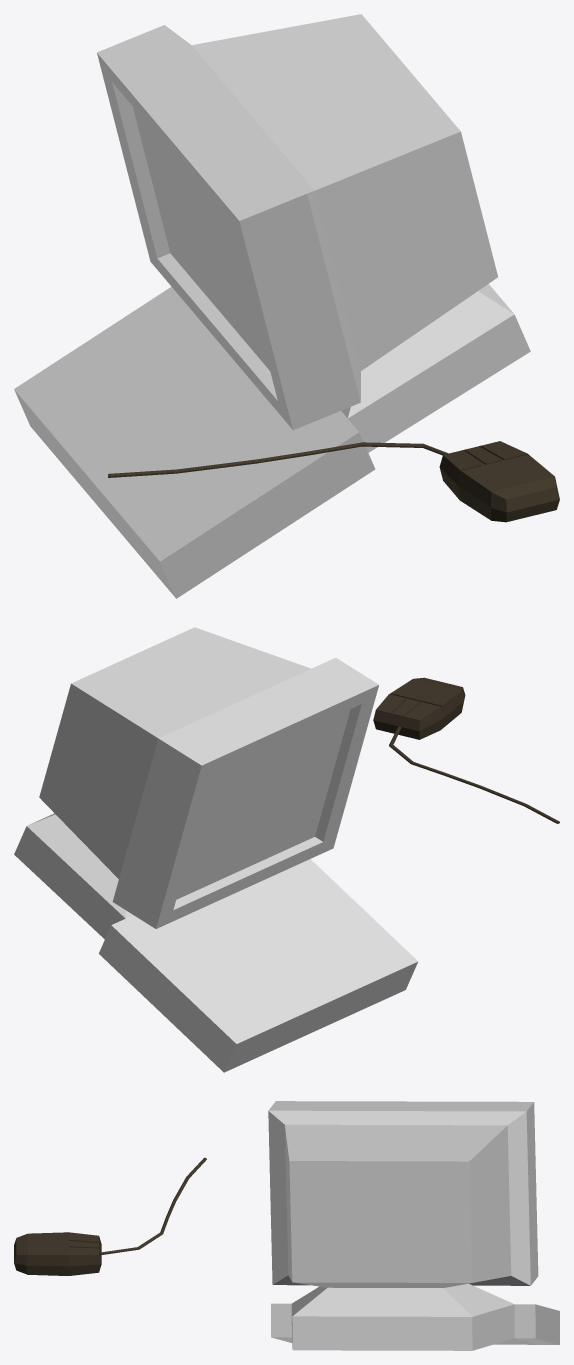
File: Electronics.fbx
3 renders of one model, top to bottom at view 1: azimuth 30°, elevation 25°; view 2: azimuth 150°, elevation 25°; view 3: azimuth 270°, elevation 25°, orthographic. The views are drawn at different scales.
Parts seen in each view (by area): view 1: PCKeyboard, Mouse; view 2: PCKeyboard, Mouse; view 3: PCKeyboard, Mouse.
Part boxes in pixels (bbox=[...]): PCKeyboard: bbox=[14, 14, 530, 598]; Mouse: bbox=[108, 441, 559, 522]; PCKeyboard: bbox=[14, 627, 418, 1072]; Mouse: bbox=[373, 677, 559, 823]; PCKeyboard: bbox=[268, 1101, 559, 1350]; Mouse: bbox=[14, 1157, 206, 1275].
Bounding box in the file's own units: 1.01 × 0.7756 × 1.34.
